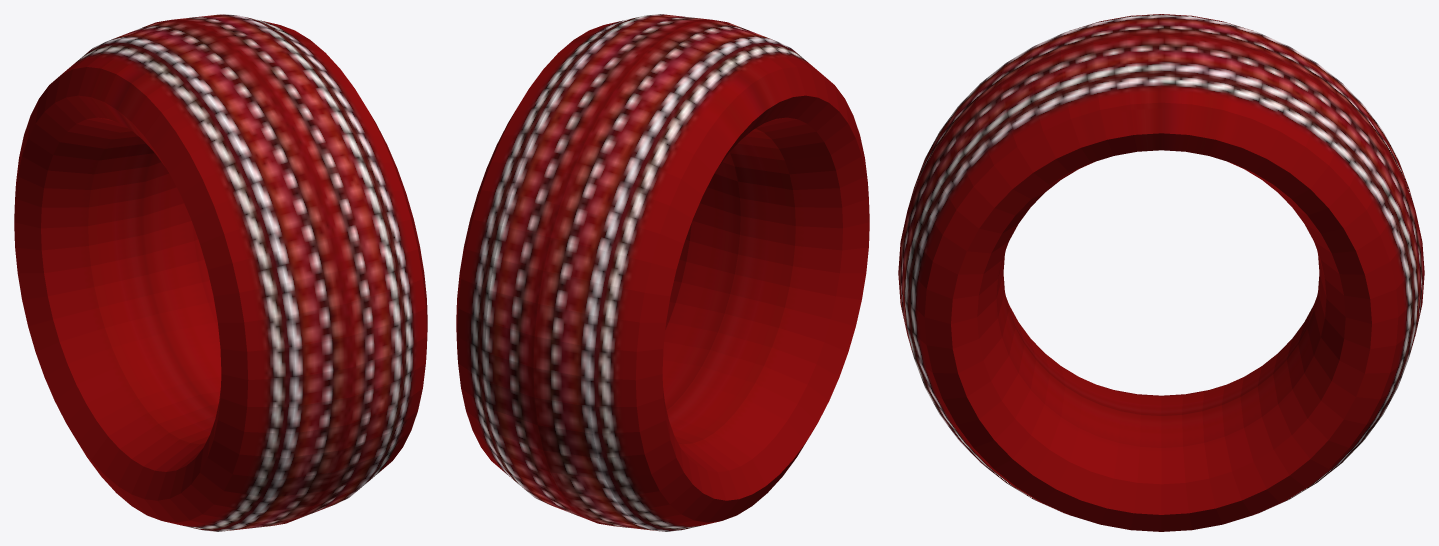
Rendered from Cricket.fbx.
3 renders of one model, left to right at view 1: azimuth 30°, elevation 25°; view 2: azimuth 150°, elevation 25°; view 3: azimuth 270°, elevation 25°, orthographic.
Visible parts, largest first — view 1: Torus; view 2: Torus; view 3: Torus.
Part boxes in pixels (box(x1,y1,x2,y2)): Torus: box(14, 14, 427, 531); Torus: box(456, 14, 869, 531); Torus: box(898, 14, 1424, 531).
Size of the model in its own units: 115 by 250 by 250.
1 material, 1 textured.
